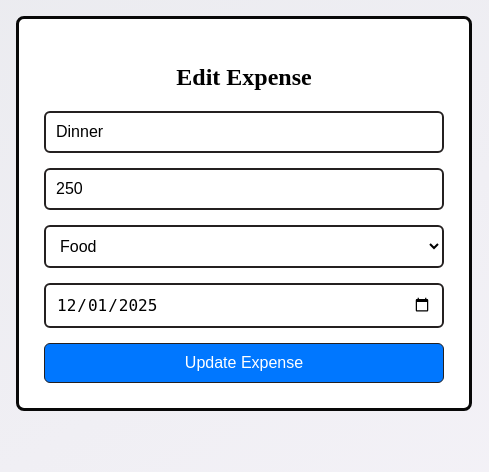
Scenario: EditExpense Component › shows error if amount <= 0 (client-side validation)
The image size is (489, 472).
Expected: the field showing "Dinner" is shown, [44,111,444,153]
Replace the text in the number field with placeholder "Amount" with "-50": (244, 189) [44,168,444,210]
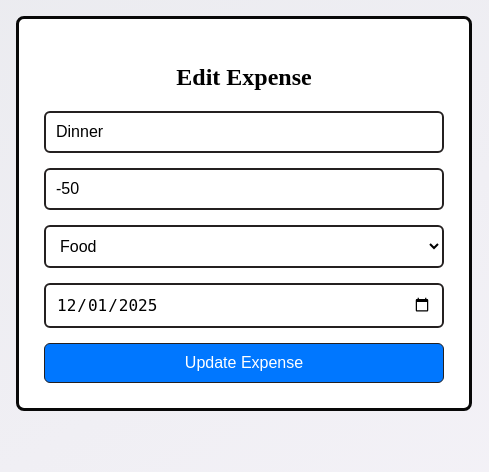
Click the button "Update Expense": (244, 363) [44,343,444,383]
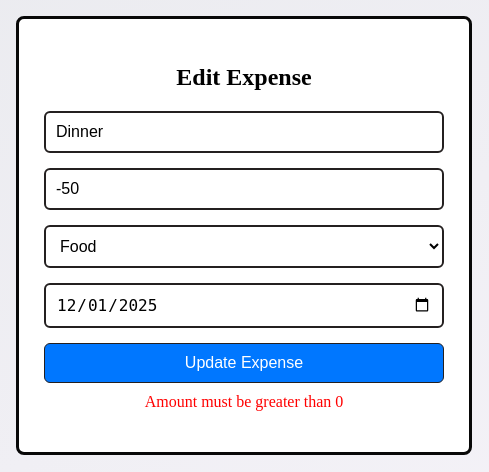
Now the text "Amount must be greater than 0" is shown, box [145,393,343,410]
